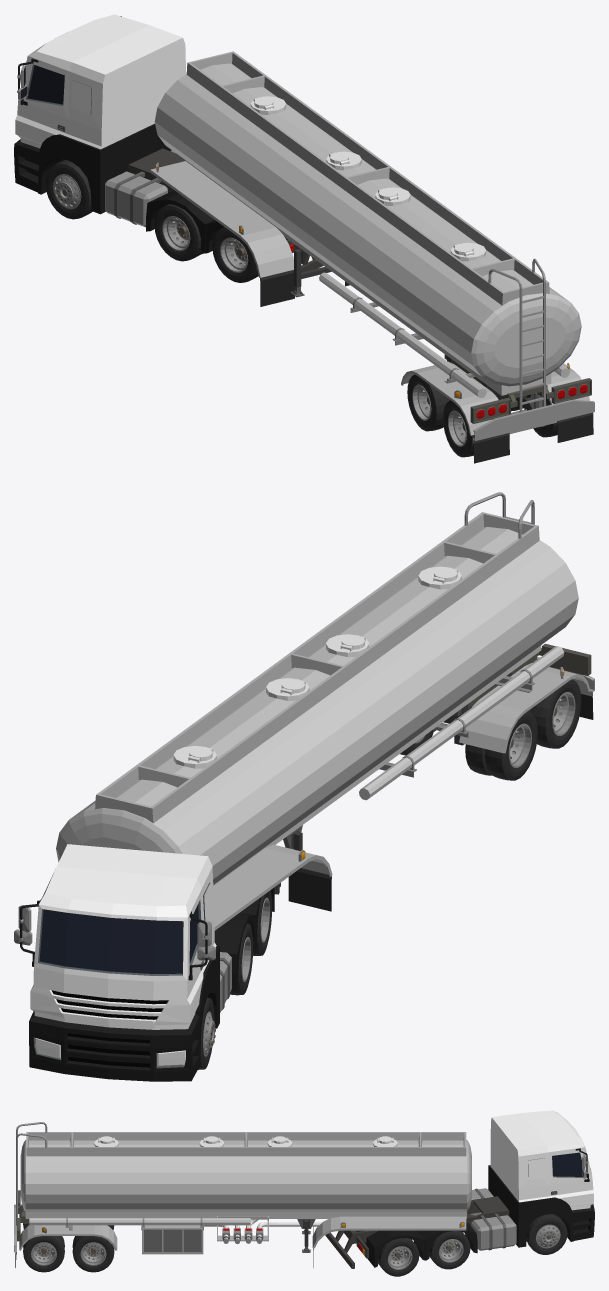
The model's file is tanker.glb.
The picture shows the model from 3 angles, top to bottom: view 1: azimuth 30°, elevation 25°; view 2: azimuth 150°, elevation 25°; view 3: azimuth 270°, elevation 25°; orthographic projection. The views are drawn at different scales.
Parts seen in each view (by area): view 1: Tanker Trailer.023, Double Wheel RL.160, Double Wheel RL.158, Double Wheel RL.159; view 2: Tanker Trailer.023, Double Wheel RL.160, Double Wheel RL.158, Double Wheel RL.159; view 3: Tanker Trailer.023, Double Wheel RL.160, Double Wheel RR.159, Double Wheel RR.158.
Part boxes in pixels (box(x1,y1,x2,y2)): Tanker Trailer.023: box(150, 51, 594, 463); Double Wheel RL.160: box(14, 14, 323, 282); Double Wheel RL.158: box(407, 374, 450, 431); Double Wheel RL.159: box(443, 400, 474, 457); Tanker Trailer.023: box(56, 492, 594, 930); Double Wheel RL.160: box(14, 844, 280, 1081); Double Wheel RL.158: box(465, 711, 537, 780); Double Wheel RL.159: box(528, 679, 581, 748); Tanker Trailer.023: box(14, 1122, 471, 1267); Double Wheel RL.160: box(325, 1110, 594, 1276); Double Wheel RR.159: box(23, 1236, 64, 1272); Double Wheel RR.158: box(72, 1236, 114, 1272).
Size of the model in its own units: 2.85 by 2.22 by 9.38.
2 materials, 2 textured.
